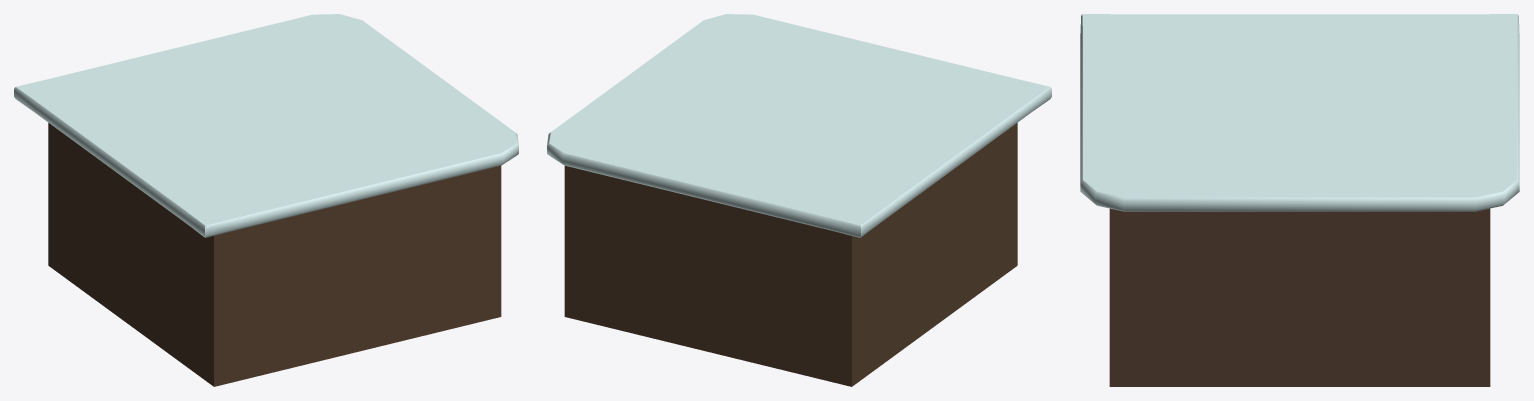
Rendered from wall Counter 2.fbx.
The picture shows the model from 3 angles, left to right: view 1: azimuth 30°, elevation 25°; view 2: azimuth 150°, elevation 25°; view 3: azimuth 270°, elevation 25°; orthographic projection. The views are drawn at different scales.
Parts seen in each view (by area): view 1: Cube, Cube.001; view 2: Cube, Cube.001; view 3: Cube.001, Cube.
Boxes of the visible parts, x1,y1,x2,y2 form: Cube: (48,123,501,386); Cube.001: (14,14,518,237); Cube: (564,123,1017,386); Cube.001: (547,14,1051,237); Cube.001: (1080,14,1519,211); Cube: (1109,208,1490,386).
Size of the model in its own units: 231 by 116 by 231.
